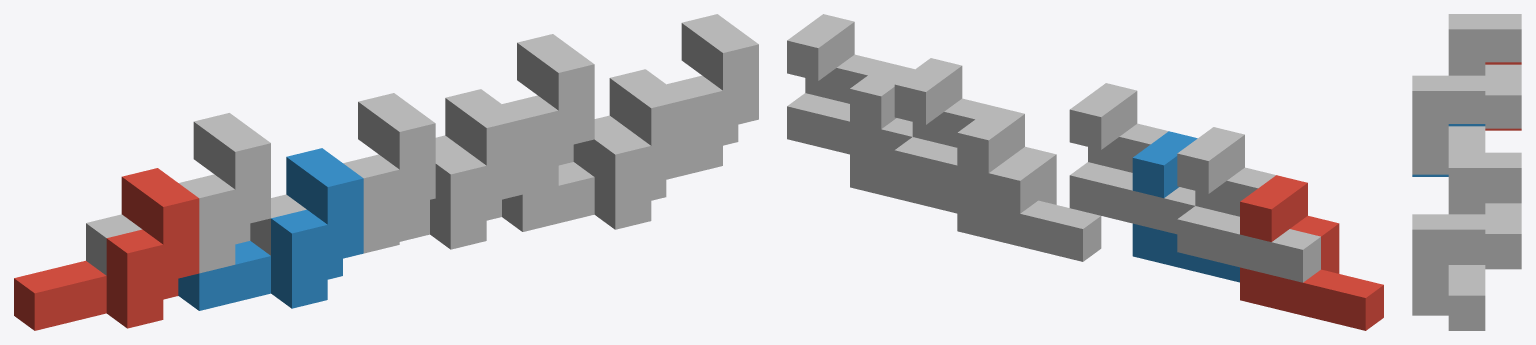
File: tiling.obj
The picture shows the model from 3 angles, left to right: view 1: azimuth 30°, elevation 25°; view 2: azimuth 150°, elevation 25°; view 3: azimuth 270°, elevation 25°; orthographic projection. The views are drawn at different scales.
Parts seen in each view (by area): view 1: copy_1_domain_1, copy_1_domain_6, copy_1_domain_2, copy_1_domain_5, copy_1_domain_3, copy_1_domain_4, copy_1_domain_8, copy_1_domain_7; view 2: copy_1_domain_7, copy_1_domain_3, copy_1_domain_5, copy_1_domain_1, copy_1_domain_4, copy_1_domain_8, copy_1_domain_2, copy_1_domain_6; view 3: copy_1_domain_8, copy_1_domain_3, copy_1_domain_7, copy_1_domain_4, copy_1_domain_6, copy_1_domain_2, copy_1_domain_1, copy_1_domain_5.
Part boxes in pixels (x1,y1,x2,y2): copy_1_domain_1: (14,168,199,330); copy_1_domain_6: (502,69,686,231); copy_1_domain_2: (178,148,363,310); copy_1_domain_5: (399,89,522,249); copy_1_domain_3: (86,113,270,275); copy_1_domain_4: (250,93,435,255); copy_1_domain_8: (573,14,758,176); copy_1_domain_7: (435,34,594,194); copy_1_domain_7: (894,58,1038,213); copy_1_domain_3: (1177,127,1320,282); copy_1_domain_5: (957,106,1101,261); copy_1_domain_1: (1240,175,1383,330); copy_1_domain_4: (1069,83,1195,234); copy_1_domain_8: (787,14,912,165); copy_1_domain_2: (1132,131,1239,282); copy_1_domain_6: (850,62,957,213); copy_1_domain_8: (1412,214,1485,328); copy_1_domain_3: (1448,14,1521,128); copy_1_domain_7: (1448,152,1521,266); copy_1_domain_4: (1412,75,1485,174); copy_1_domain_6: (1412,262,1485,330); copy_1_domain_2: (1412,124,1485,176); copy_1_domain_1: (1485,62,1521,130); copy_1_domain_5: (1485,201,1521,269).
Bounding box in the file's own units: 19 × 4 × 3.
